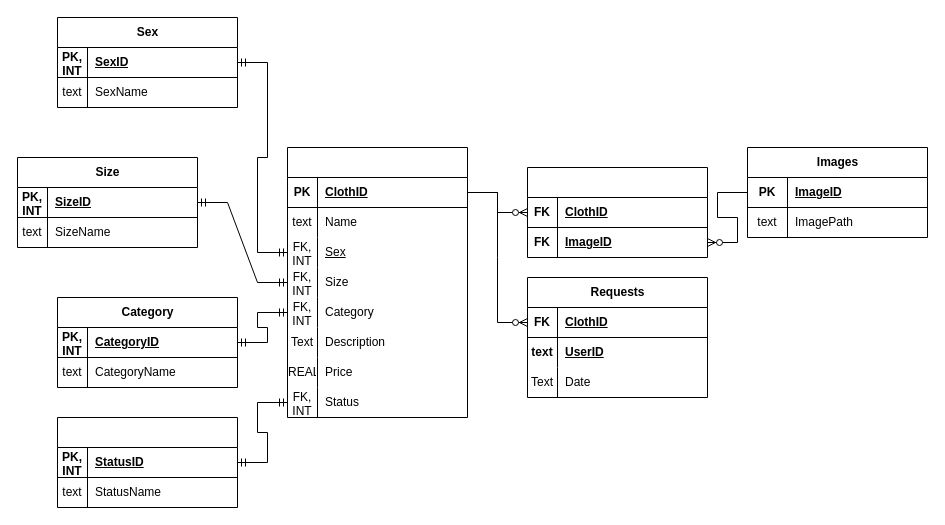
Image size: 945x525. Some labels were removed from this diagram. The box of each missing label's shape, as (x1, y1, x2, y2) in pixels:
Clothing: (286, 146, 468, 418)
Images_of_Clothing: (526, 166, 708, 258)
Statuses: (56, 416, 238, 508)
